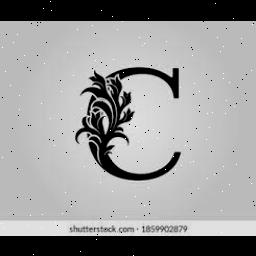c: (76, 58, 204, 188)
